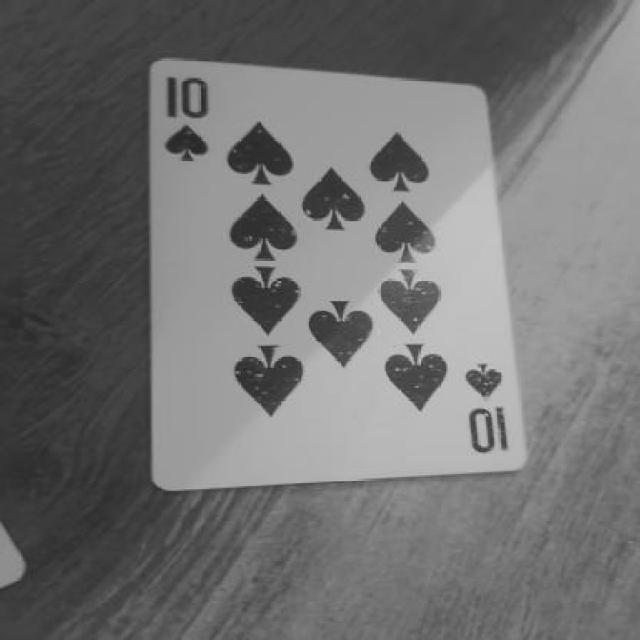10S: (141, 65, 237, 173), (462, 348, 523, 464)
